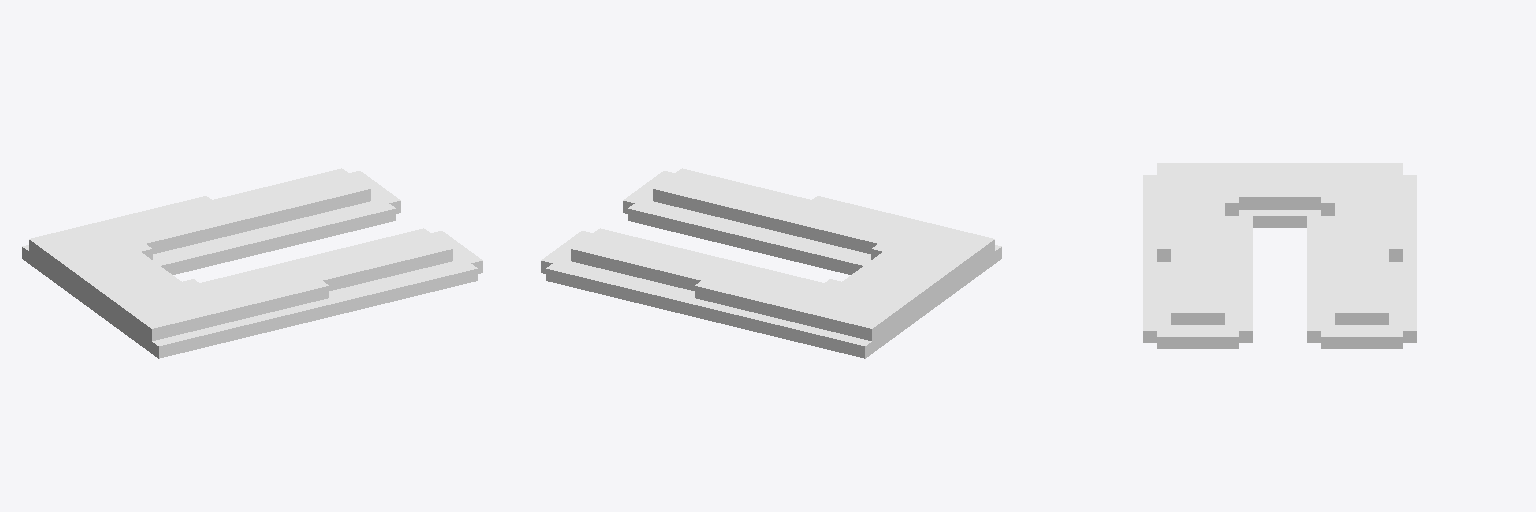
The model's file is F_Pants.obj.
3 views of the same model, side by side, from view 1: azimuth 30°, elevation 25°; view 2: azimuth 150°, elevation 25°; view 3: azimuth 270°, elevation 25° (orthographic).
Visible parts, largest first — view 1: object 1; view 2: object 1; view 3: object 1.
Boxes of the visible parts, x1,y1,x2,y2 form: object 1: [22, 168, 482, 358]; object 1: [541, 168, 1001, 358]; object 1: [1143, 163, 1416, 348].
Size of the model in its own units: 2.8 by 0.2 by 2.